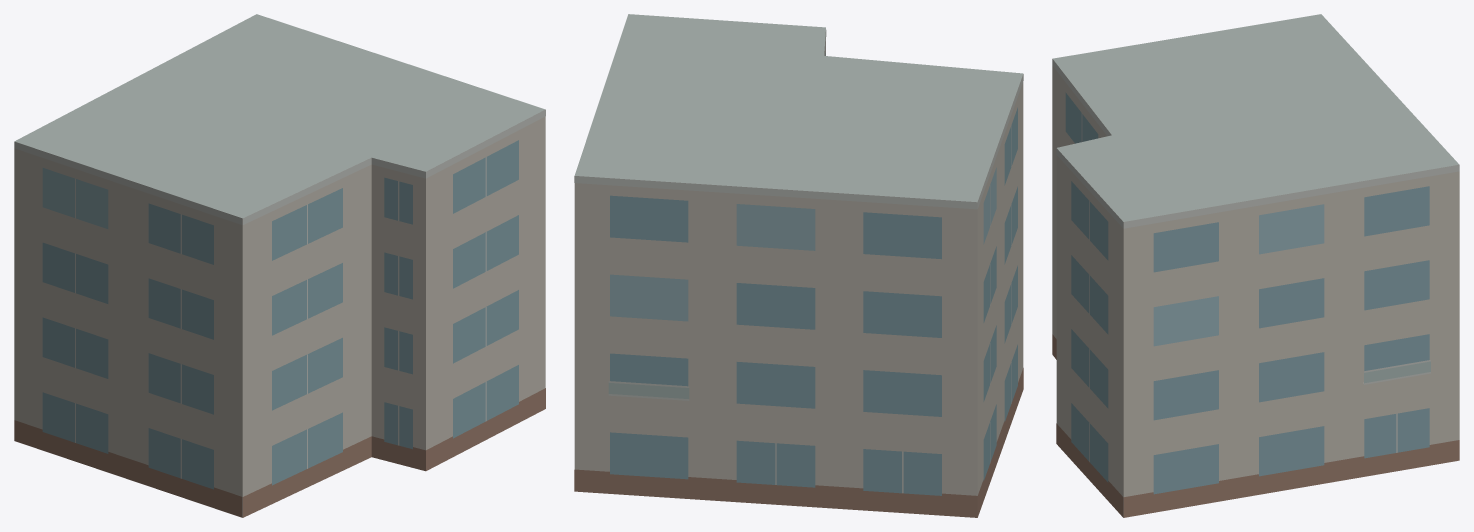
Rendered from survey-upis-32851539.glb.
The picture shows the model from 3 angles, left to right: view 1: azimuth 30°, elevation 25°; view 2: azimuth 150°, elevation 25°; view 3: azimuth 270°, elevation 25°; orthographic projection. The views are drawn at different scales.
Visible parts, largest first — view 1: survey-upis-32851539.tmp; view 2: survey-upis-32851539.tmp; view 3: survey-upis-32851539.tmp.
Boxes of the visible parts, x1,y1,x2,y2 form: survey-upis-32851539.tmp: (14,14,545,517); survey-upis-32851539.tmp: (574,14,1023,517); survey-upis-32851539.tmp: (1052,14,1459,517).
Size of the model in its own units: 16.14 by 10.7 by 13.35.
